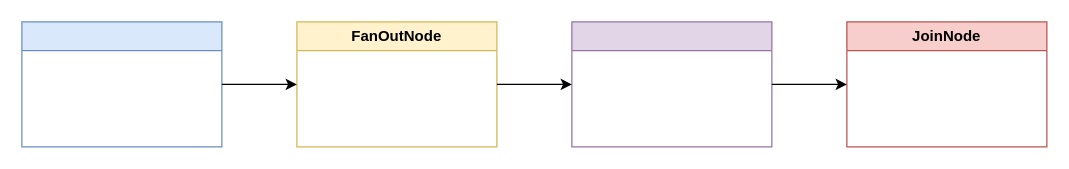
Some shapes in this 1069 by 169 pixel diagram are drawn without their labels. The centre of each missing label's shape, as x and y in pixels:
"PhaseIdentificationService" belongs at (x=121, y=84).
"StateMergeService" belongs at (x=671, y=84).
